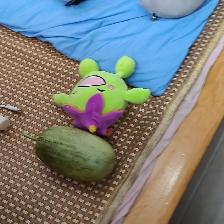gua: (37, 131, 109, 169)
